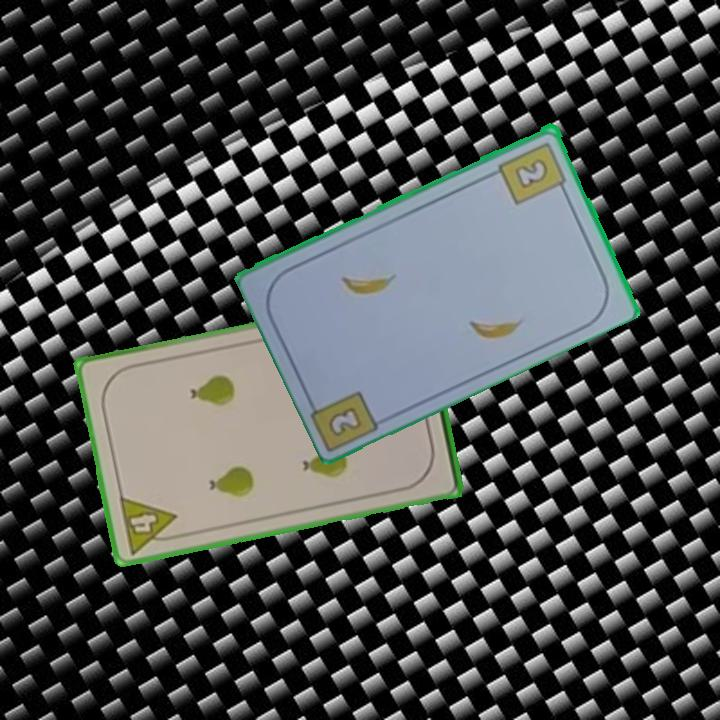2b: (495, 137, 570, 207), (327, 406, 362, 436)
4p: (115, 493, 183, 557)
